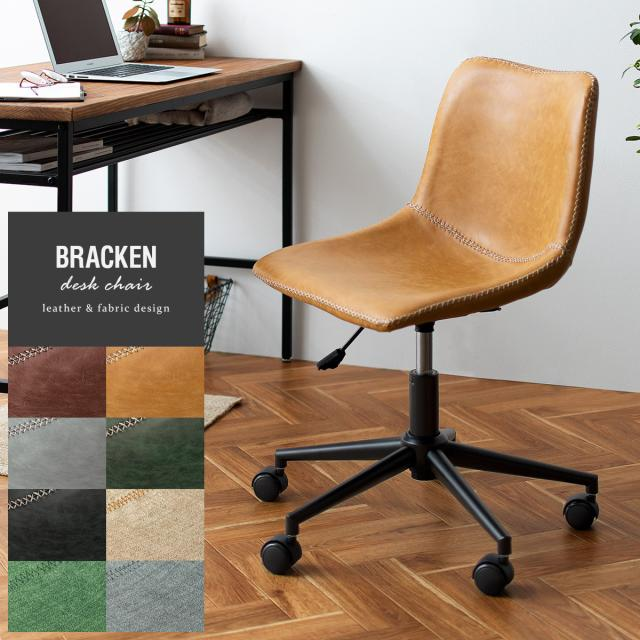chair vintage: (247, 52, 604, 598)
